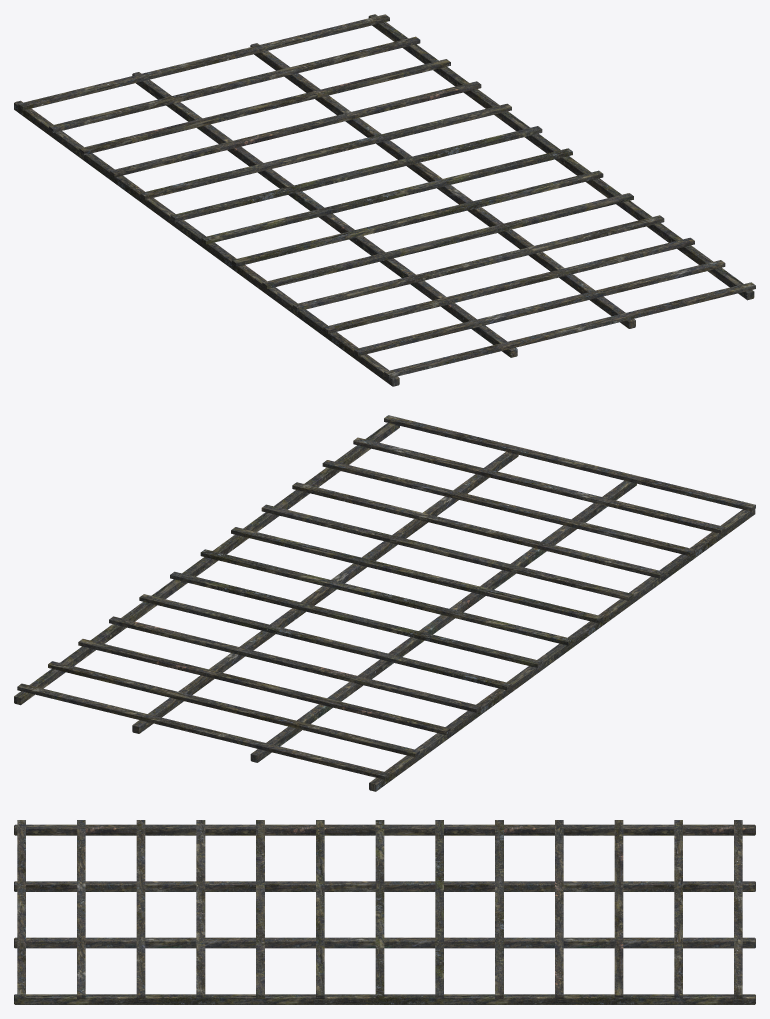
The model's file is BigRoofWood.fbx.
3 views of the same model, one above another, from view 1: azimuth 30°, elevation 25°; view 2: azimuth 150°, elevation 25°; view 3: azimuth 270°, elevation 25° (orthographic). The views are drawn at different scales.
Parts seen in each view (by area): view 1: BigHorizontal, BigVertical; view 2: BigHorizontal, BigVertical; view 3: BigVertical, BigHorizontal.
Part boxes in pixels (<box>): BigHorizontal: <box>18,14,755,378</box>; BigVertical: <box>14,14,754,386</box>; BigHorizontal: <box>17,415,755,779</box>; BigVertical: <box>14,423,755,791</box>; BigVertical: <box>14,824,755,1004</box>; BigHorizontal: <box>17,820,742,998</box>.
Size of the model in its own units: 396 by 11.96 by 708.
